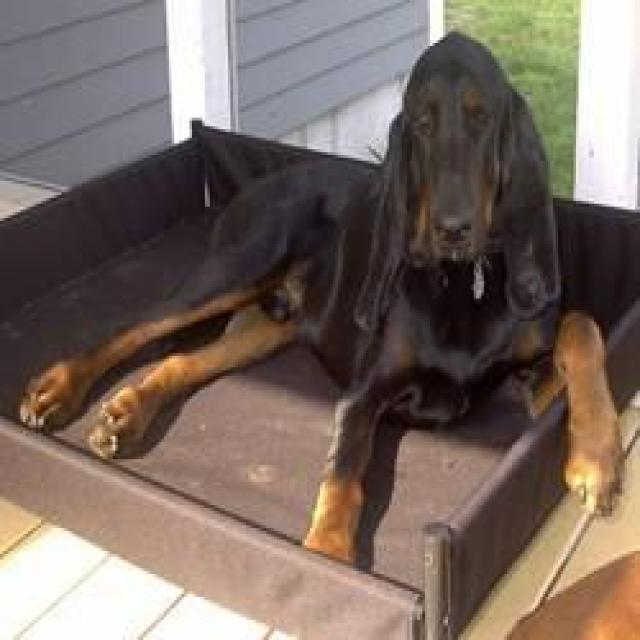dog: (17, 19, 634, 589)
